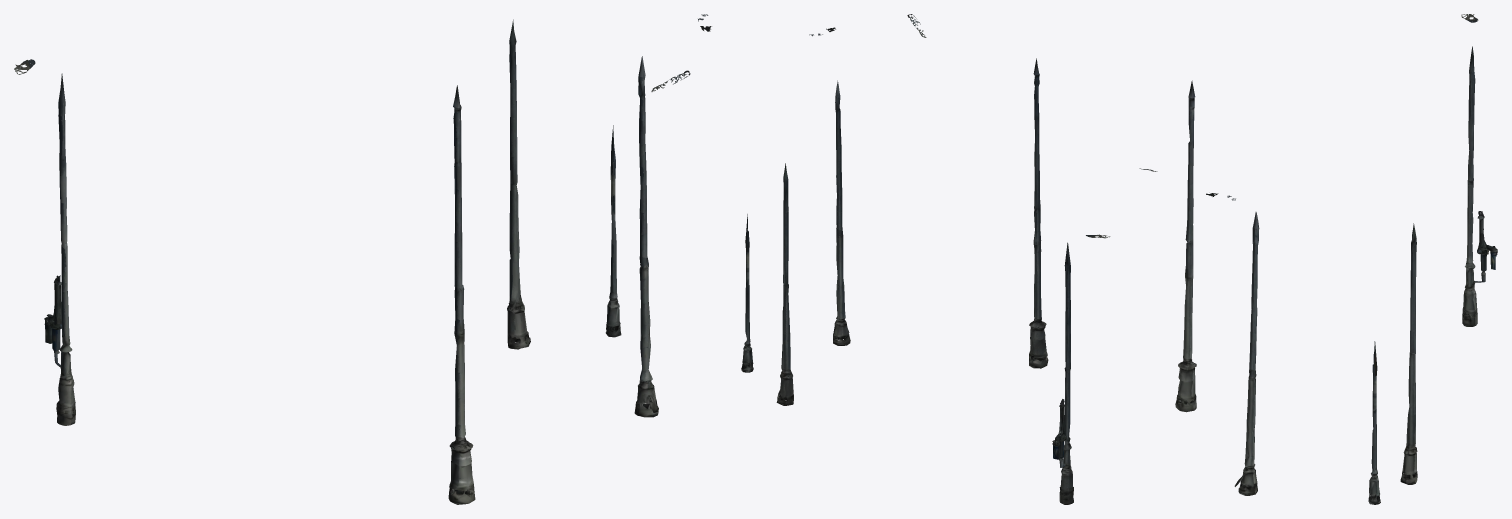
Rendered from construction-05.glb.
3 views of the same model, side by side, from view 1: azimuth 30°, elevation 25°; view 2: azimuth 150°, elevation 25°; view 3: azimuth 270°, elevation 25° (orthographic). The views are drawn at different scales.
Size of the model in its own units: 1.31 by 0.9463 by 0.9363.
Materials: 1 (1 with a texture image).
